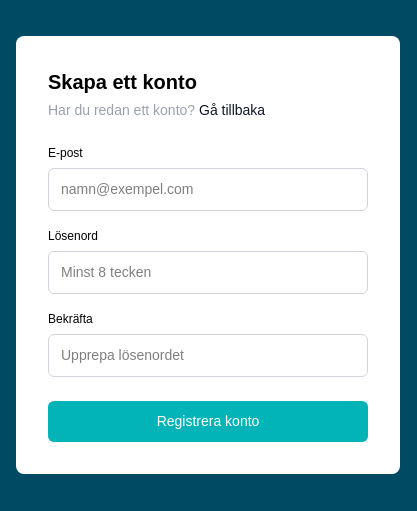
SignupPage › Shows error if password and confirm password do not match
Type "password123" into the password field labelled "Lösenord" at (208, 272), box [48,251,368,294]
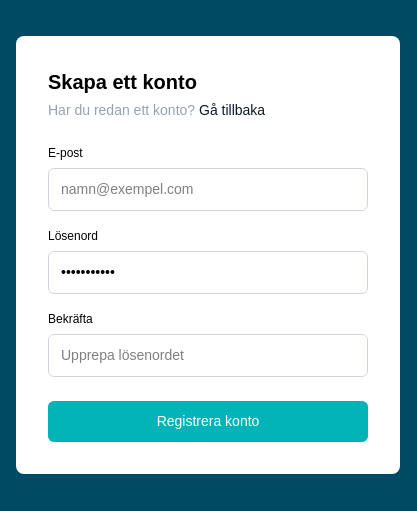
Type "differentpassword123" into the password field labelled "Bekräfta" at (208, 356), box [48,334,368,377]
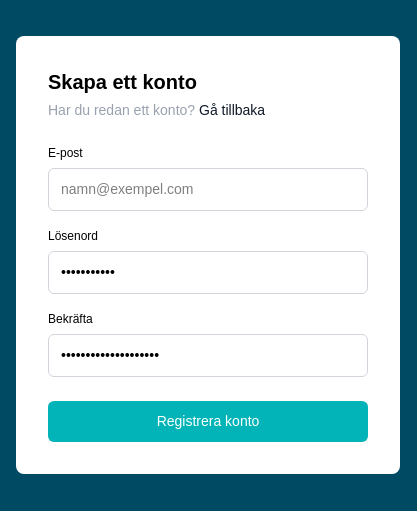
Click the button "Registrera konto" at (208, 422), box [48,401,368,442]
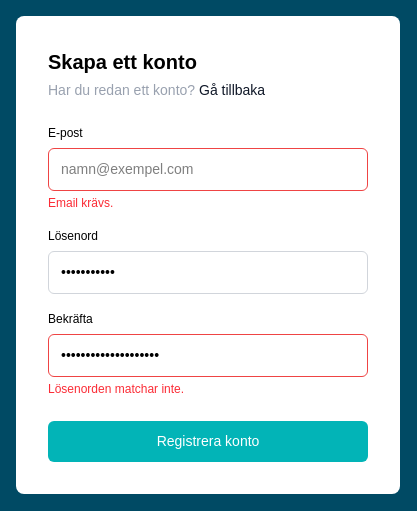
Check: the text "Lösenorden matchar inte." is shown, box [48,382,184,396]
